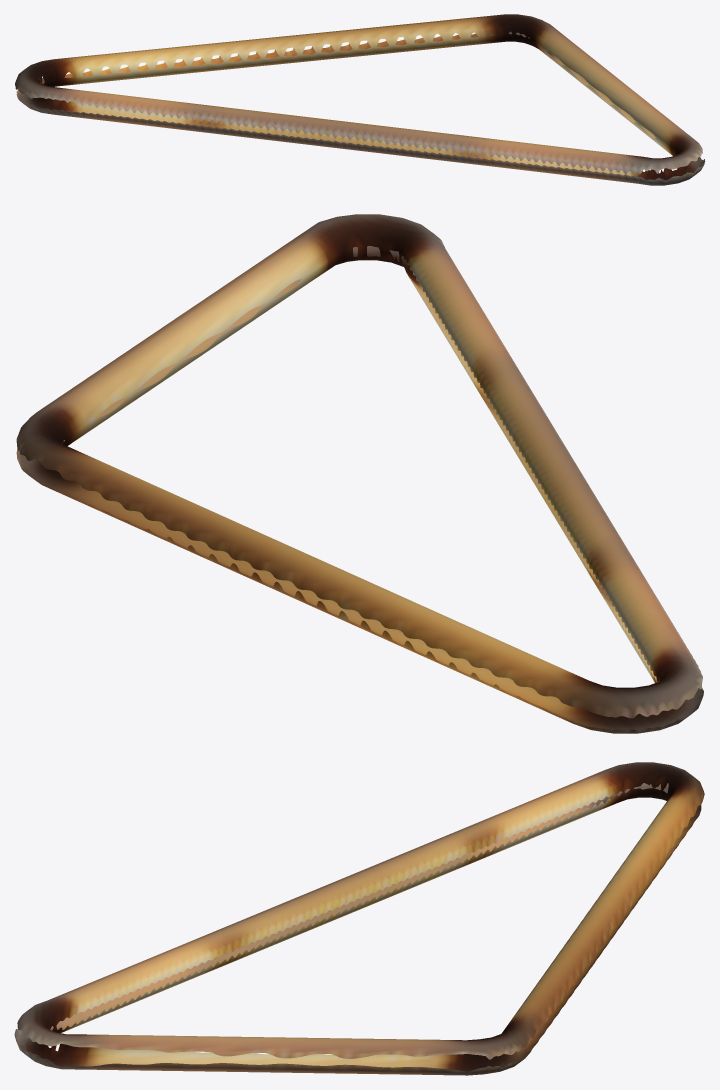
Rendered from lsling.fbx.
3 views of the same model, one above another, from view 1: azimuth 30°, elevation 25°; view 2: azimuth 150°, elevation 25°; view 3: azimuth 270°, elevation 25° (orthographic). The views are drawn at different scales.
Visible parts, largest first — view 1: lsling; view 2: lsling; view 3: lsling.
Boxes of the visible parts, box(x1,y1,x2,y2) form: lsling: box(15, 14, 705, 185); lsling: box(16, 214, 703, 733); lsling: box(14, 762, 704, 1075).
Bounding box in the file's own units: 9.87 × 0.5054 × 9.87.
1 material, 1 textured.
